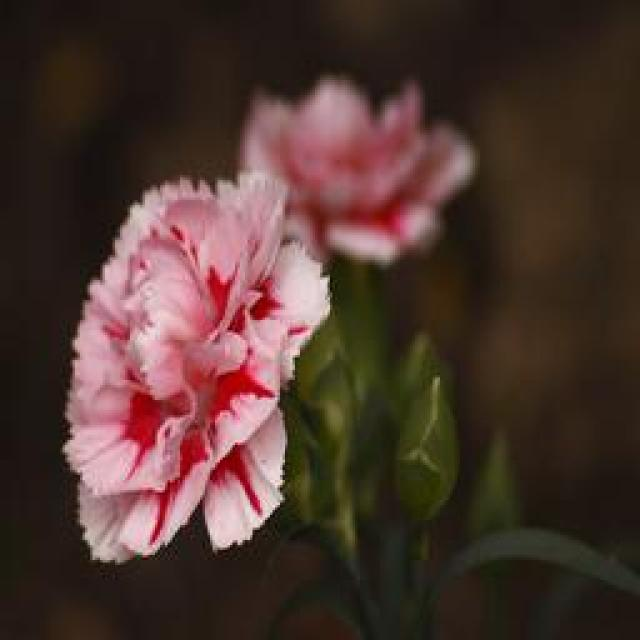carnation: (52, 173, 357, 559)
